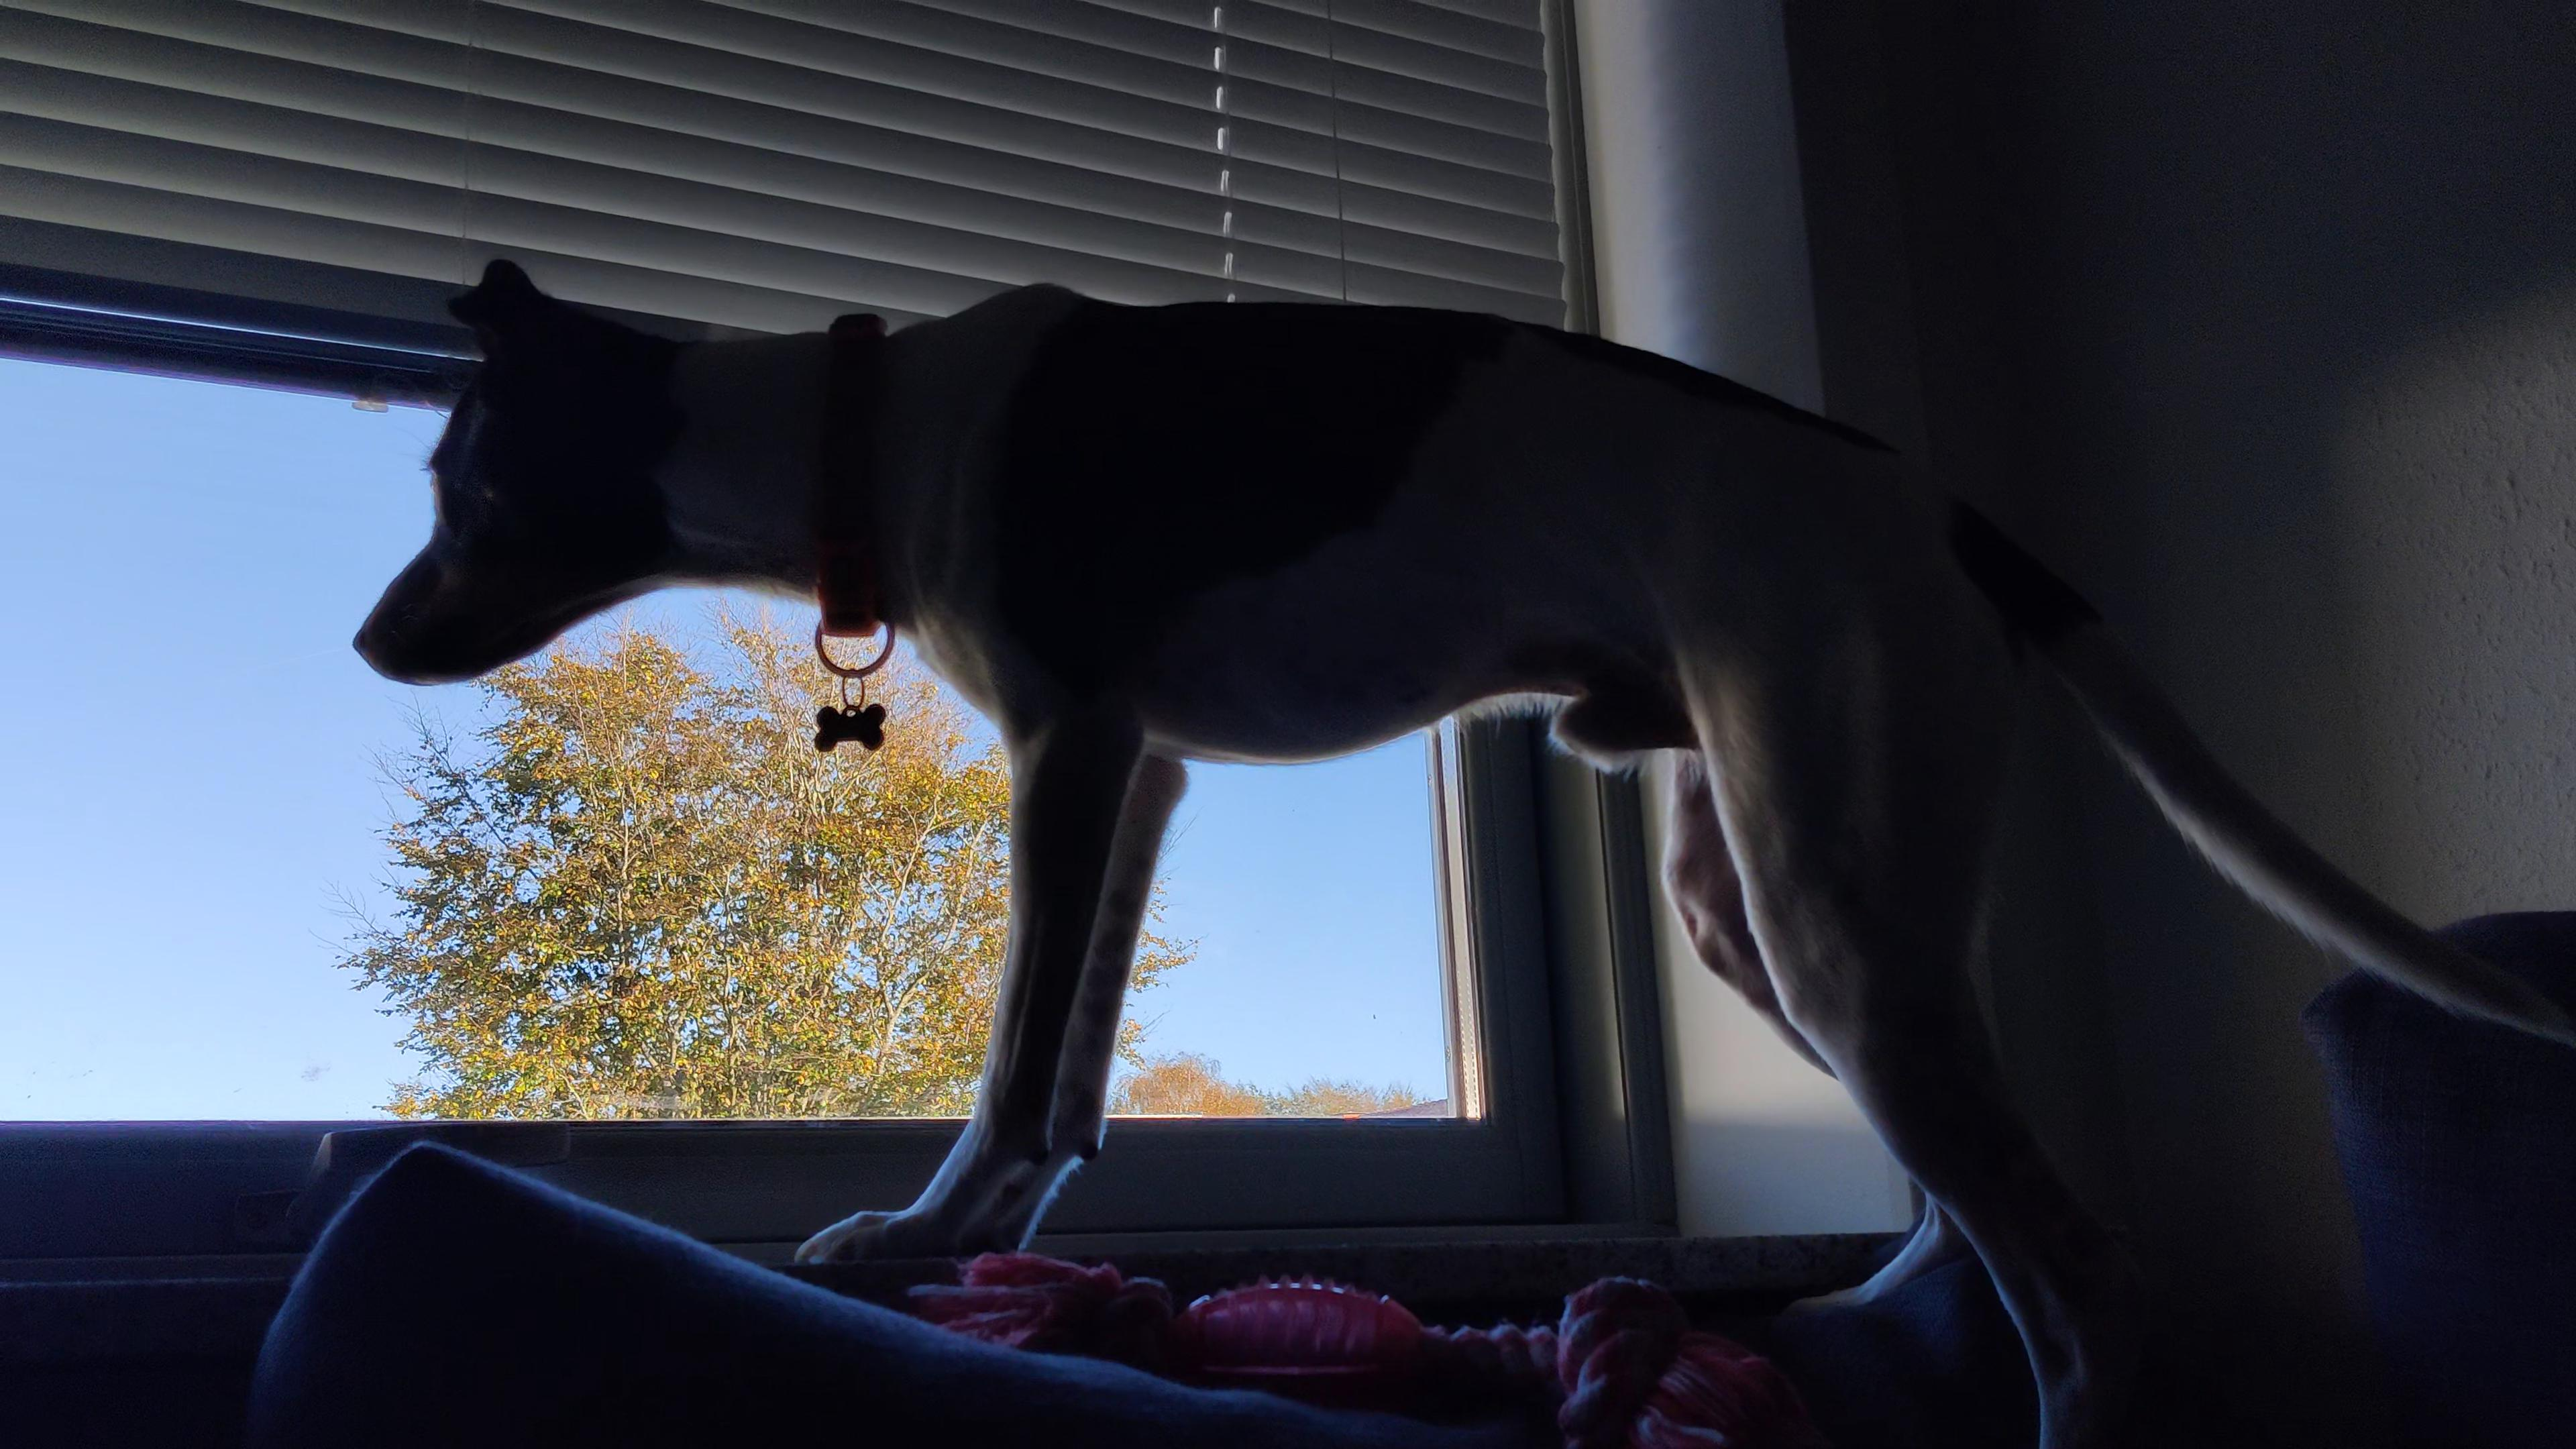Dog: (347, 244, 2576, 1449)
